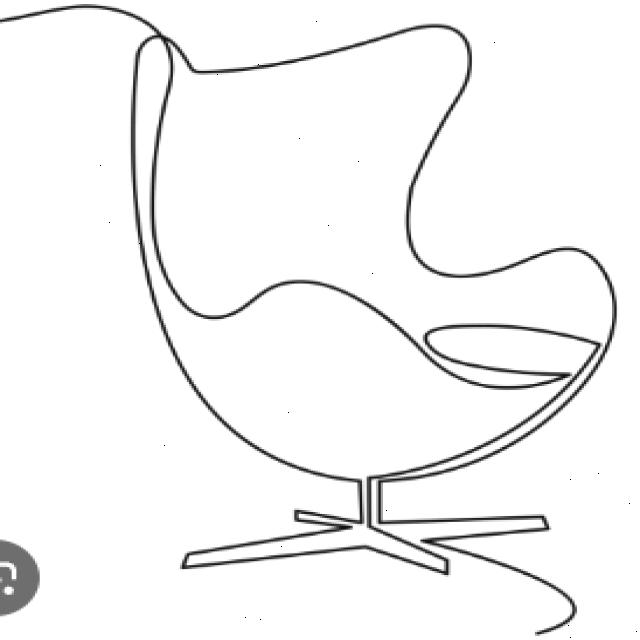Leg_Structure: (170, 501, 570, 583)
egg_armrest: (126, 18, 623, 487)
